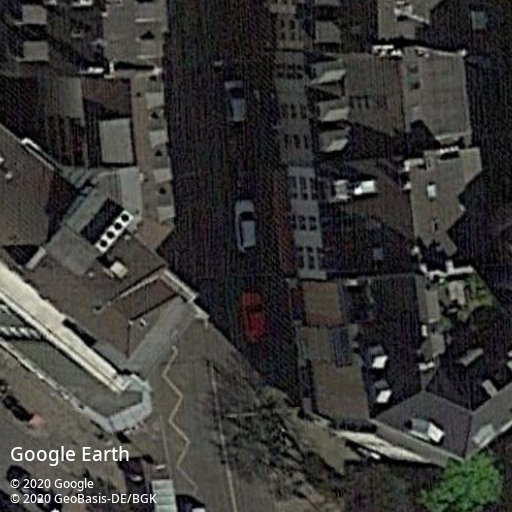Chiller: (94, 209, 133, 253)
